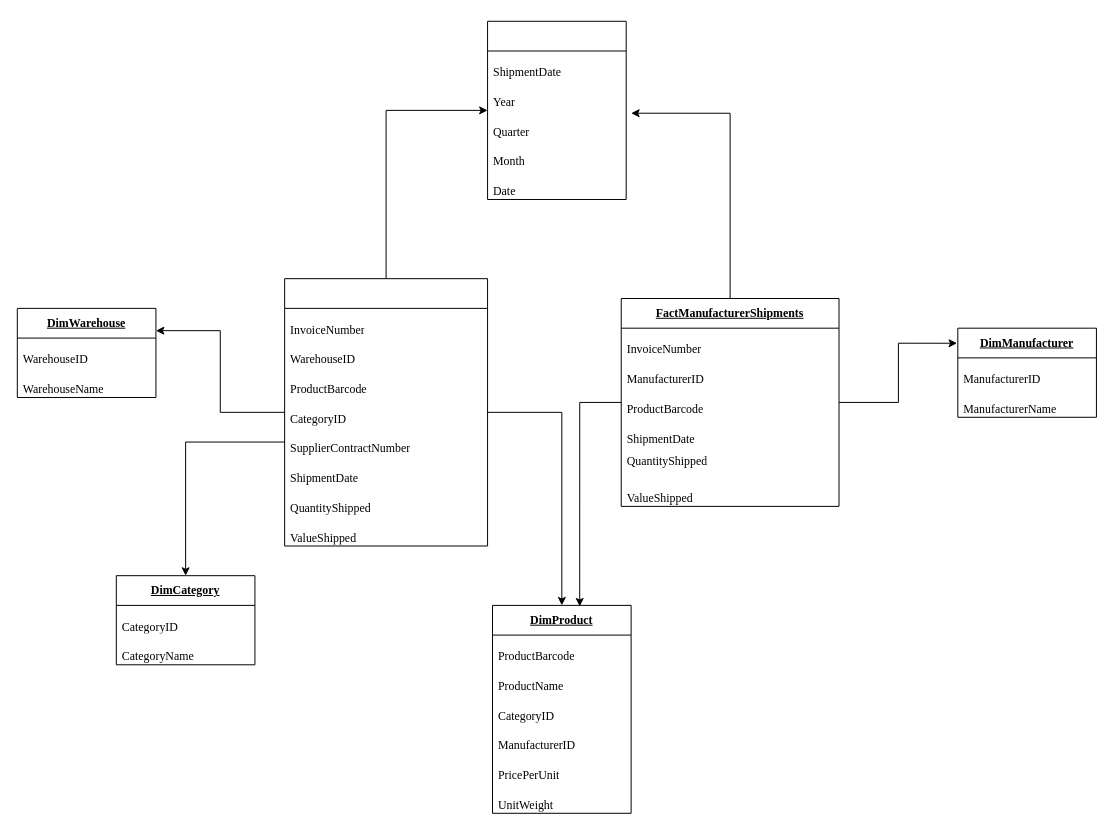
This 1114x831 diagram has some shape labels left out. Each missing label, with the box of its shape:
DimTime: (487, 20, 626, 199)
FactWarehouse Shipments: (284, 278, 488, 546)
